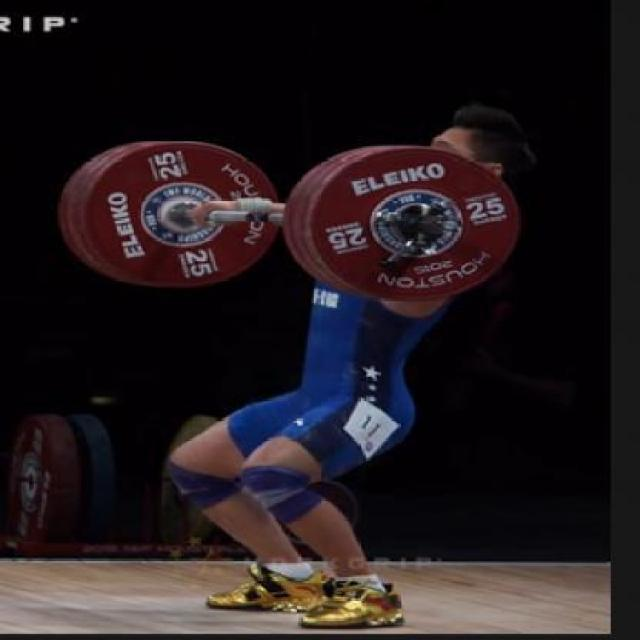barbell: (303, 137, 522, 305)
